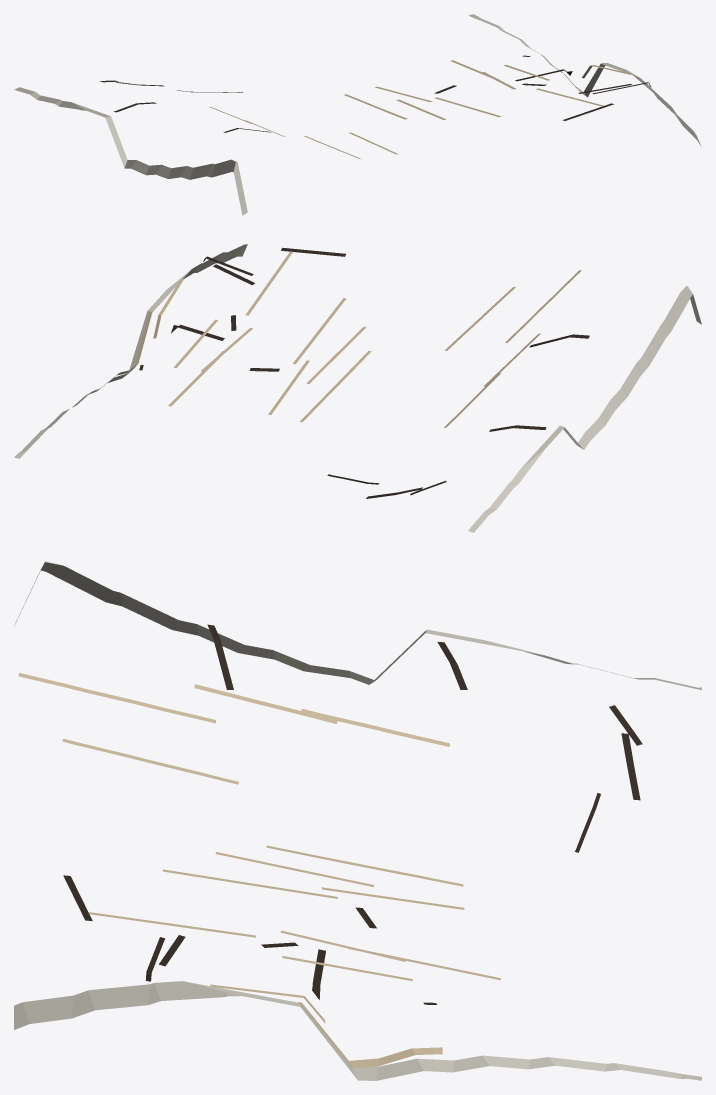
Rendered from dam_upper_slot_step_detail1.glb.
3 views of the same model, one above another, from view 1: azimuth 30°, elevation 25°; view 2: azimuth 150°, elevation 25°; view 3: azimuth 270°, elevation 25° (orthographic). The views are drawn at different scales.
Visible parts, largest first — view 1: dam_upper_slot_step_detail1; view 2: dam_upper_slot_step_detail1; view 3: dam_upper_slot_step_detail1.
Part boxes in pixels (left/top/right/bottom): dam_upper_slot_step_detail1: left=14, top=14, right=701, bottom=215; dam_upper_slot_step_detail1: left=14, top=244, right=701, bottom=532; dam_upper_slot_step_detail1: left=14, top=561, right=701, bottom=1080.
Bounding box in the file's own units: 21.25 × 5.43 × 18.3.
